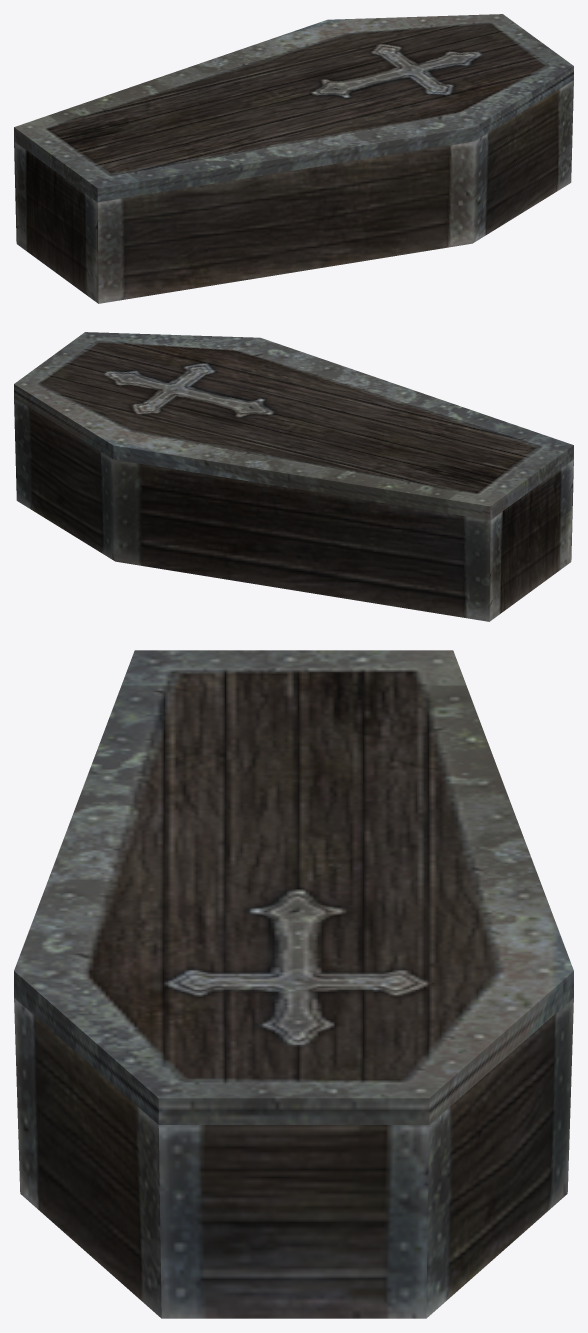
File: W_Casket.FBX
The picture shows the model from 3 angles, top to bottom: view 1: azimuth 30°, elevation 25°; view 2: azimuth 150°, elevation 25°; view 3: azimuth 270°, elevation 25°; orthographic projection. The views are drawn at different scales.
Parts seen in each view (by area): view 1: WoodCasket1_cover, WoodCasket1; view 2: WoodCasket1_cover, WoodCasket1; view 3: WoodCasket1_cover, WoodCasket1.
Part boxes in pixels (x1,y1,x2,y2): WoodCasket1_cover: (14, 14, 573, 202); WoodCasket1: (14, 80, 573, 303); WoodCasket1_cover: (14, 332, 573, 520); WoodCasket1: (14, 398, 573, 621); WoodCasket1_cover: (14, 650, 573, 1124); WoodCasket1: (14, 998, 573, 1318).
Size of the model in its own units: 36.11 by 8.39 by 19.07.
Materials: 1 (1 with a texture image).
